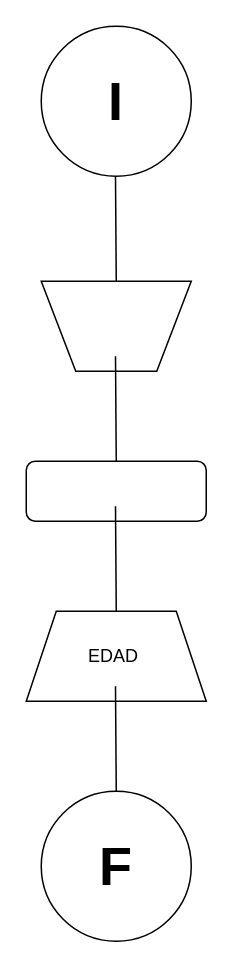
Image size: 233x968. Some labels were removed from this diagram. Here are the shapes that lost their labels. From the top down, the centre of each, then its label:
At (x=115, y=325): "AA, AN".
At (x=115, y=490): "EDAD = AA - AN".
